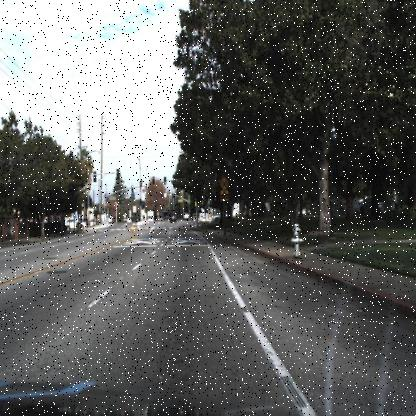car: (64, 216, 87, 232), (214, 209, 230, 225), (165, 206, 177, 223), (188, 210, 198, 224)
trafficLight-Green: (161, 174, 166, 185), (162, 176, 167, 186)
trafficLight-RedLeft: (151, 175, 156, 186)
truck: (145, 204, 156, 225)
